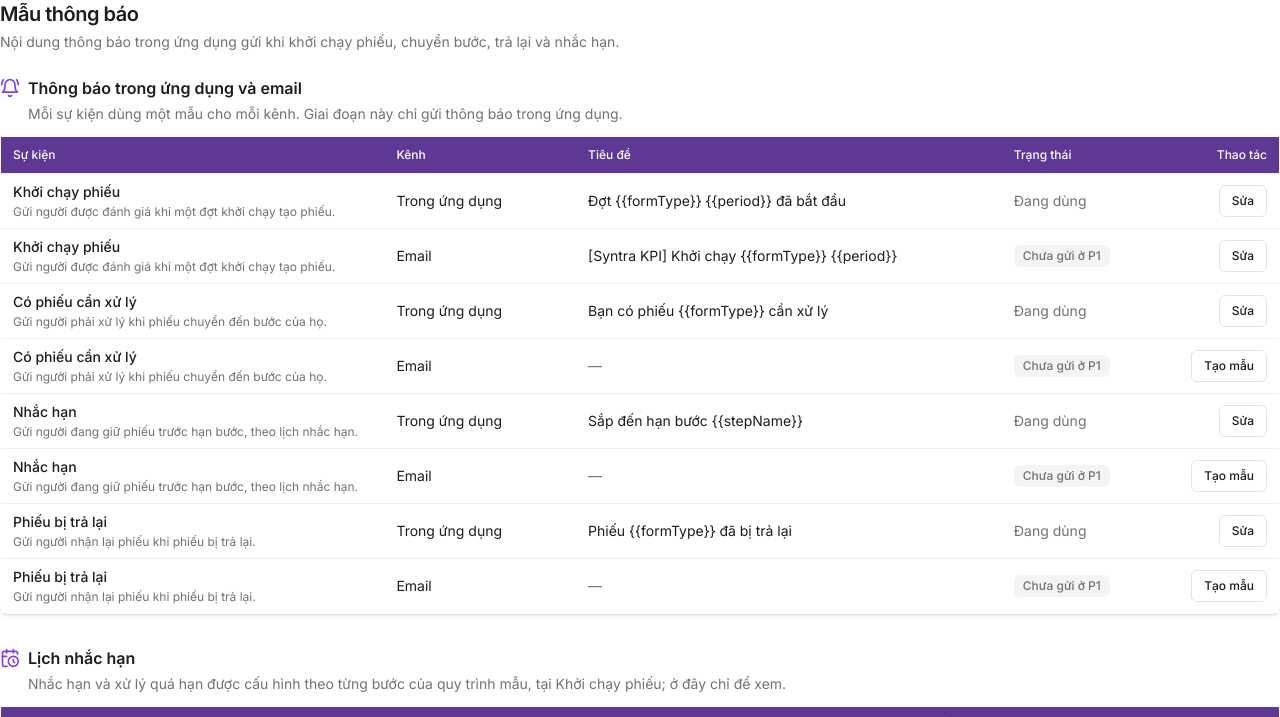
Scenario: NotificationTemplatesPage › asks before discarding unsaved changes
Click the button with aria-label "Sửa mẫu, Nhắc hạn, Trong ứng dụng" at {"x": 1243, "y": 420}, box [1219,404,1267,436]
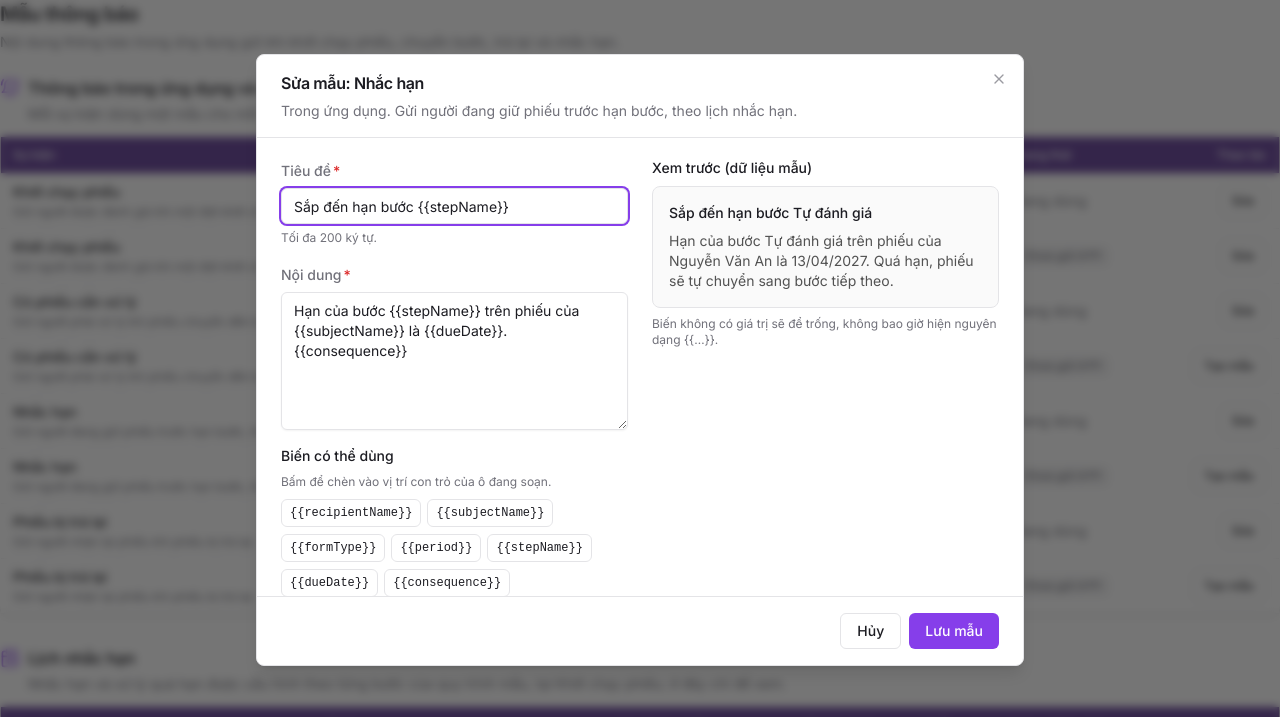
Replace the text in the field labelled "Tiêu đề*" with "Đổi" at {"x": 454, "y": 206}, box [281,188,628,224]
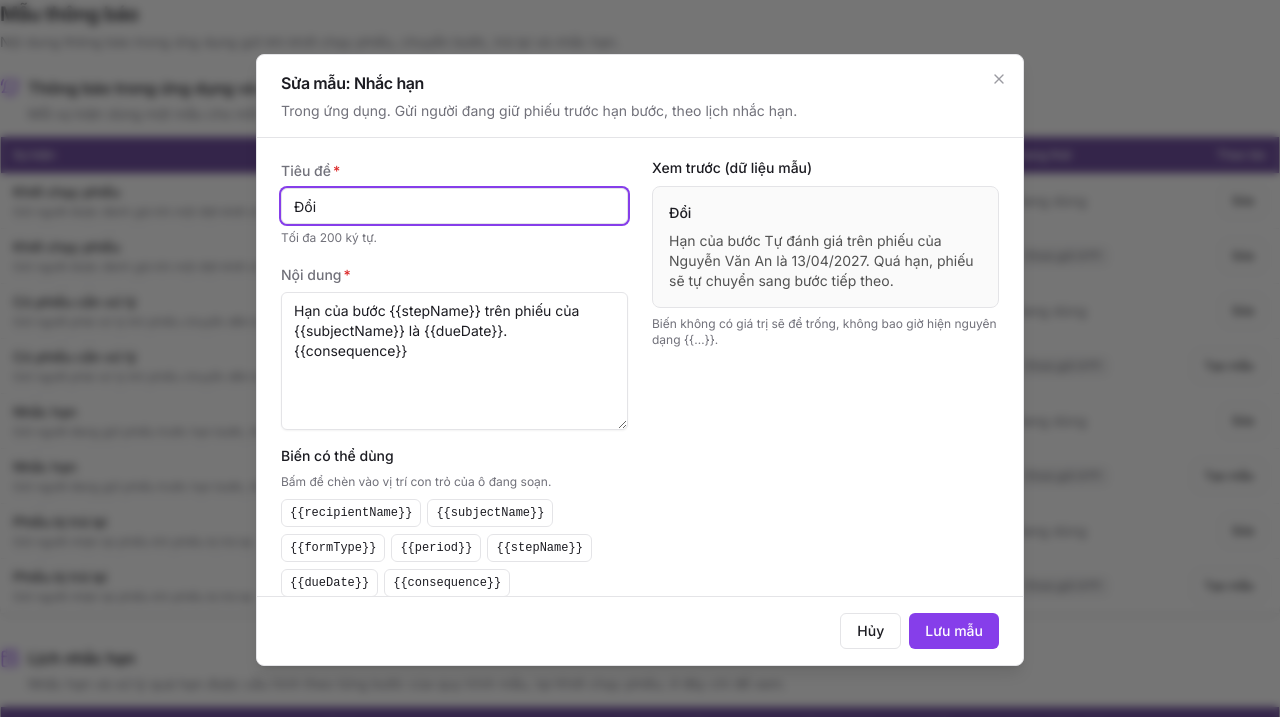
Click the button "Hủy" at {"x": 871, "y": 631}, box [840,613,901,649]
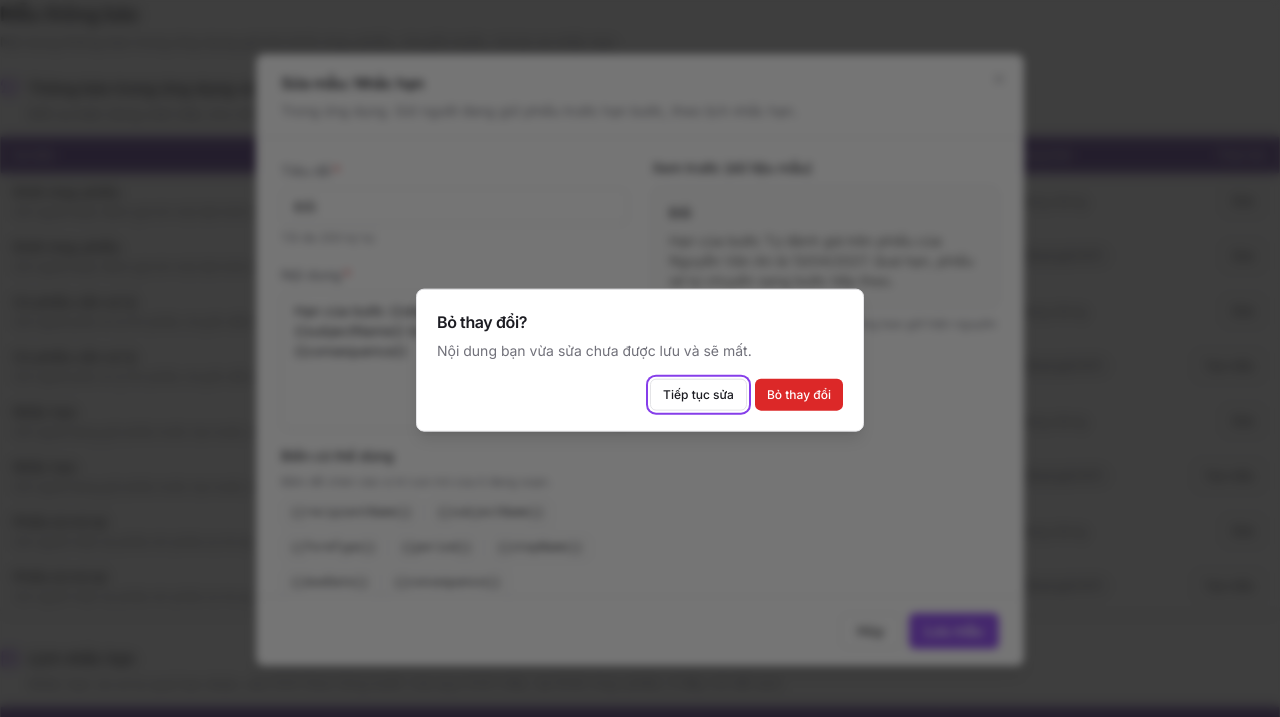
Now the dialog "Bỏ thay đổi?" is shown, box [416,289,864,431]
